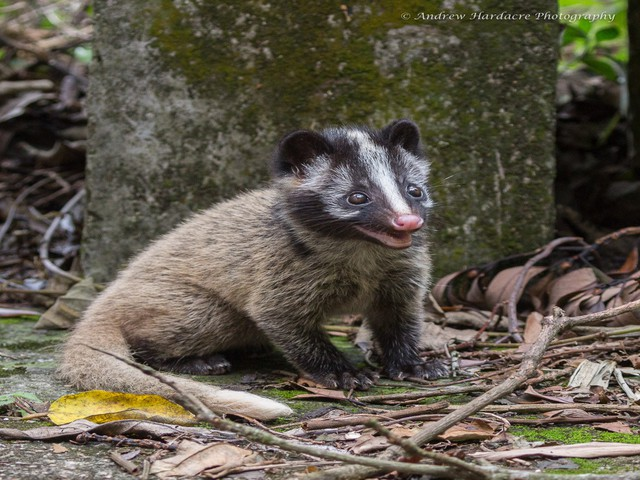civet: (61, 117, 452, 421)
